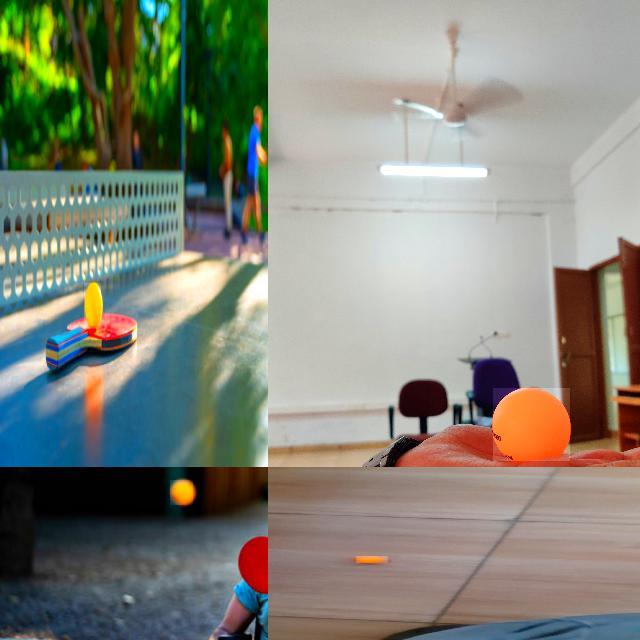ping-pong-ball: (493, 388, 571, 462), (84, 282, 102, 328), (170, 480, 194, 506), (356, 556, 389, 564)
